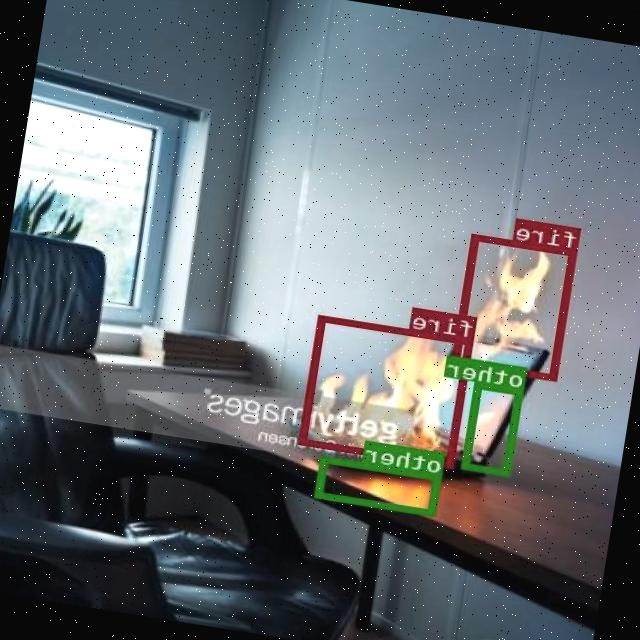fire: (300, 314, 474, 468), (454, 234, 580, 380)
